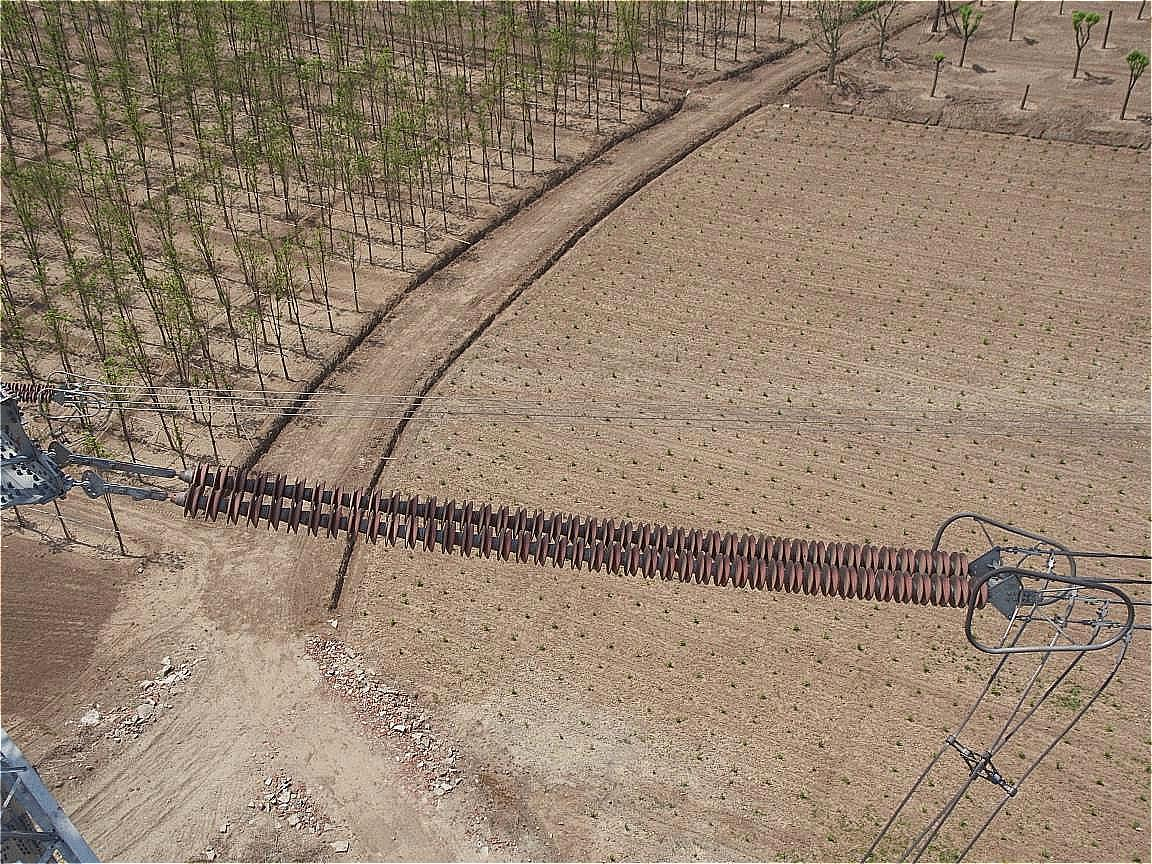insultor2: (158, 447, 1002, 636)
